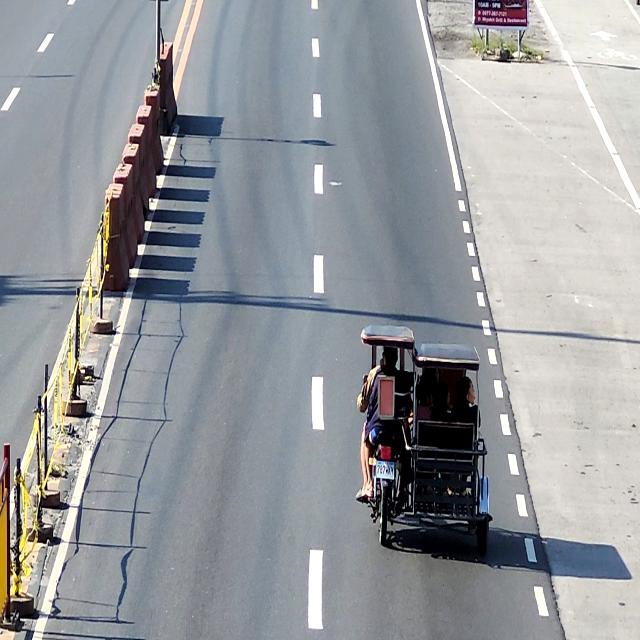License-Plate: (375, 460, 394, 481)
Tricycle: (360, 324, 492, 551)
